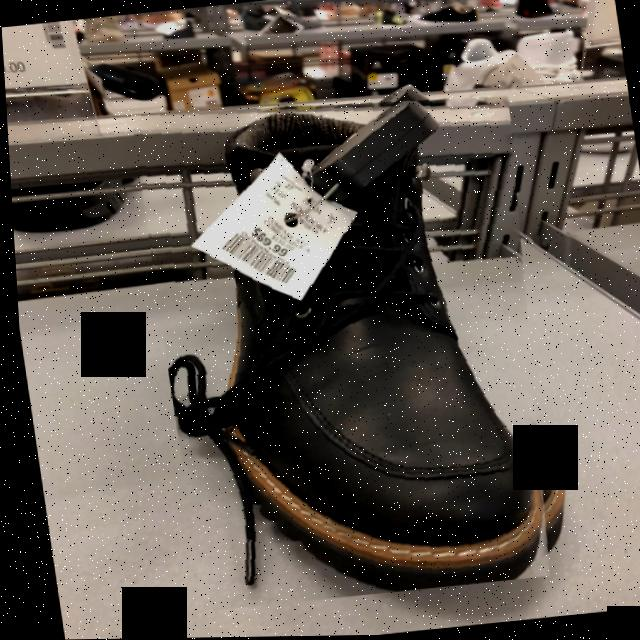shoe: (164, 99, 543, 592)
